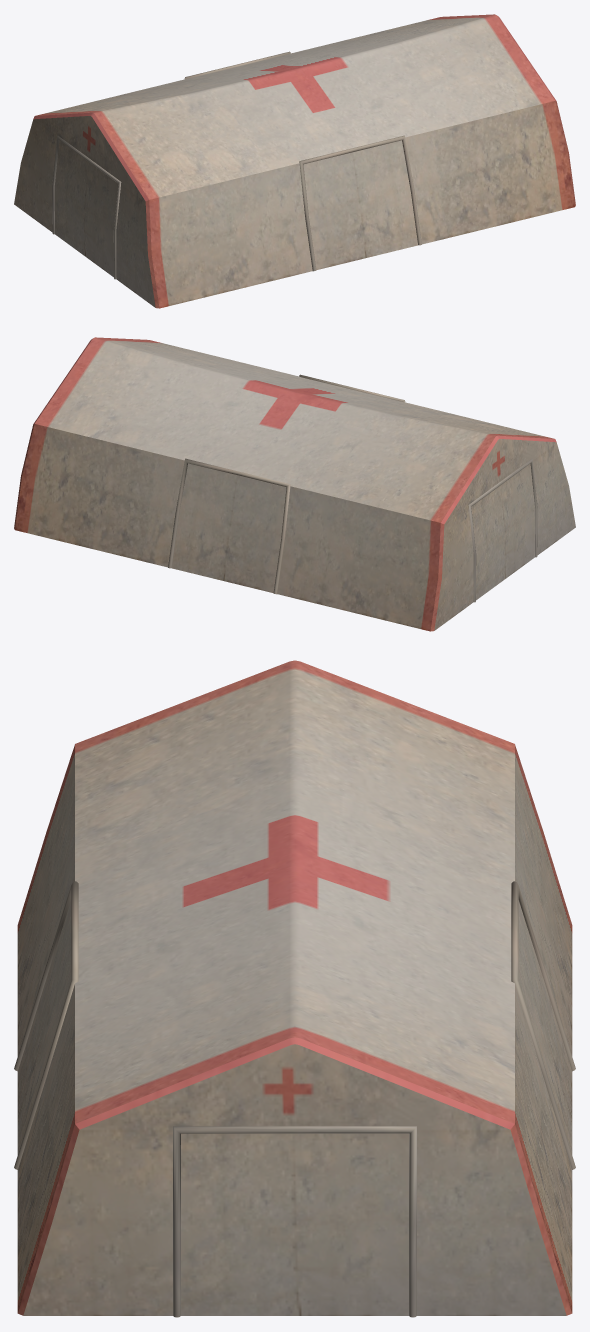
The model's file is tent_files_closed.FBX.
3 views of the same model, one above another, from view 1: azimuth 30°, elevation 25°; view 2: azimuth 150°, elevation 25°; view 3: azimuth 270°, elevation 25° (orthographic). The views are drawn at different scales.
Parts seen in each view (by area): view 1: Camp_large, entry_dum4, entry_dum1; view 2: Camp_large, entry_dum3, entry_dum1; view 3: Camp_large, entry_dum2, entry_dum3, entry_dum4.
Boxes of the visible parts, <box> form: Camp_large: <box>14,14,575,308</box>; entry_dum4: <box>303,140,417,270</box>; entry_dum1: <box>54,140,118,277</box>; Camp_large: <box>14,337,575,631</box>; entry_dum3: <box>172,463,286,593</box>; entry_dum1: <box>471,463,535,600</box>; Camp_large: <box>14,660,575,1317</box>; entry_dum2: <box>181,1133,408,1315</box>; entry_dum3: <box>518,900,572,1154</box>; entry_dum4: <box>17,900,71,1154</box>.
Bounding box in the file's own units: 1185 × 378 × 709.
